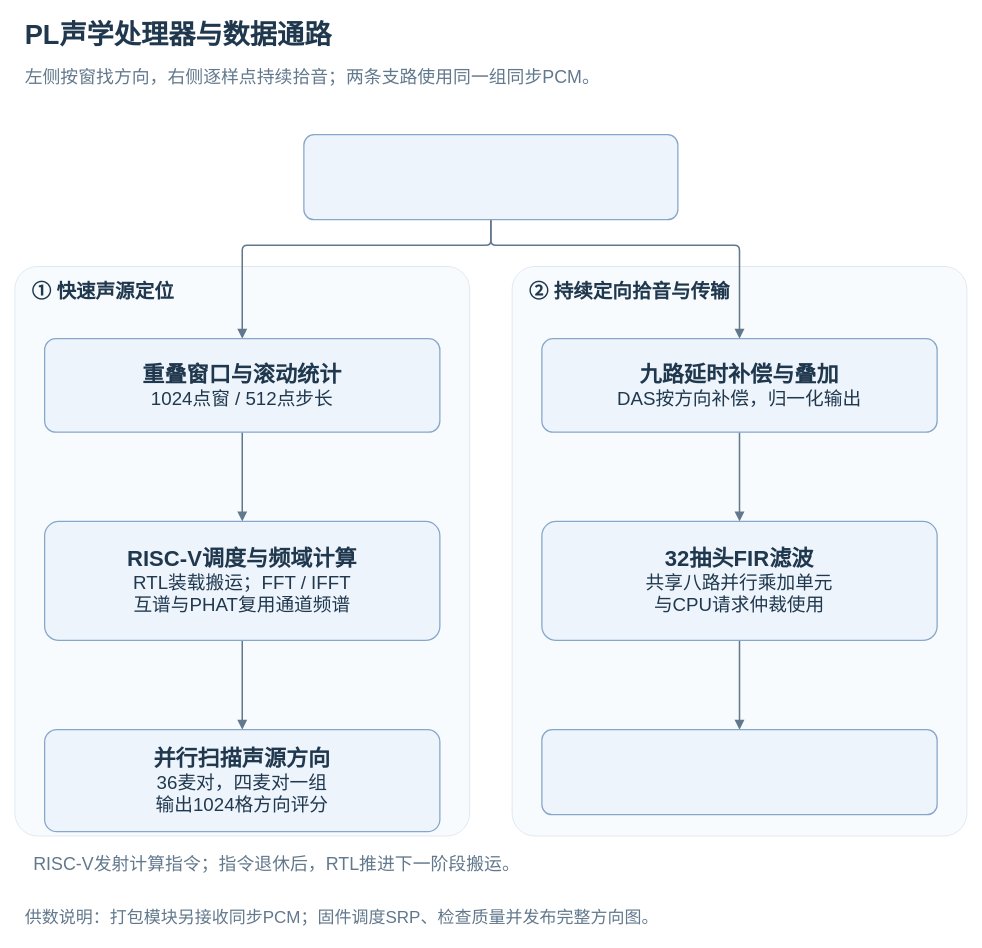
The diagram is 982 pixels wide and 948 high, and some of its shapes have lost their labels. The shapes that lost their labels are listed below. From the top down, each one's centre as x and y in pixels, then its label:
At point (490, 177): "九路同步PCM 来自同步采集与通道预处理".
At point (739, 772): "采样打包与非阻塞DMA 九路PCM、FIR输出及样本身份".
